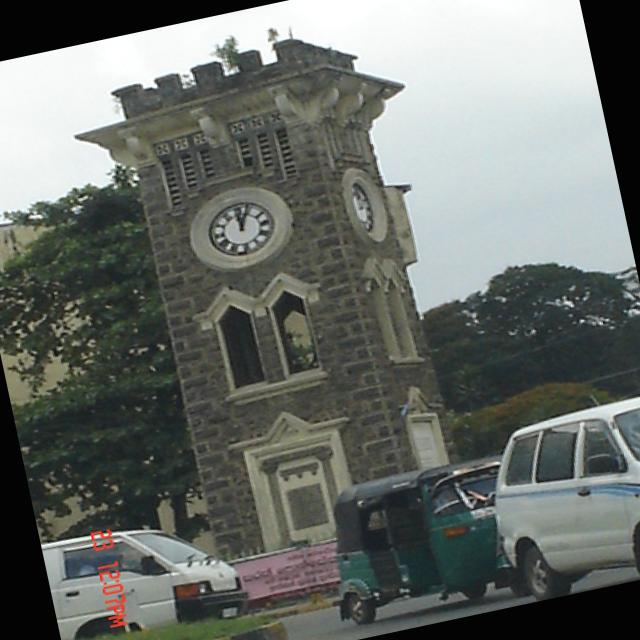Vehicle: (311, 446, 538, 633), (465, 388, 640, 607), (473, 385, 640, 606), (40, 501, 255, 640)
